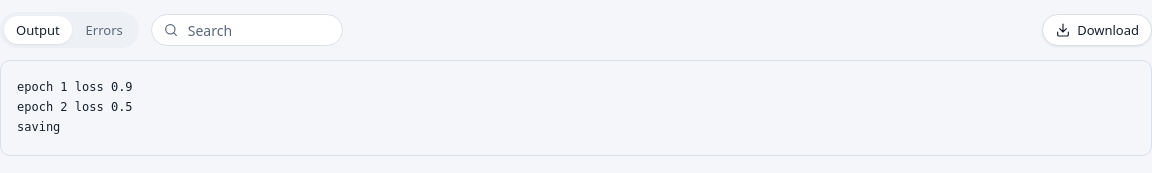
Test: LogViewer › filters lines with the search box
The width and height of the screenshot is (1152, 173).
Check: the text "epoch 1 loss 0.9 epoch 2 loss 0.5 saving" is shown, box 0,60 -> 1151,156
Type "epoch 2" into the field named "Search the log" at [247, 30], box 151,14 -> 343,46
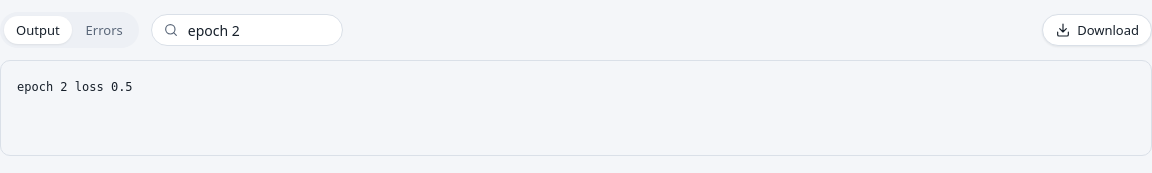
Check: the text "epoch 2 loss 0.5" is shown, box 0,60 -> 1151,156
Check: the text "saving" is gone
